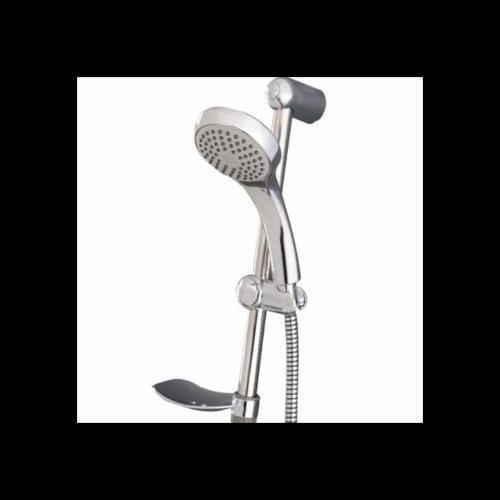Ducha: (144, 77, 329, 422)
